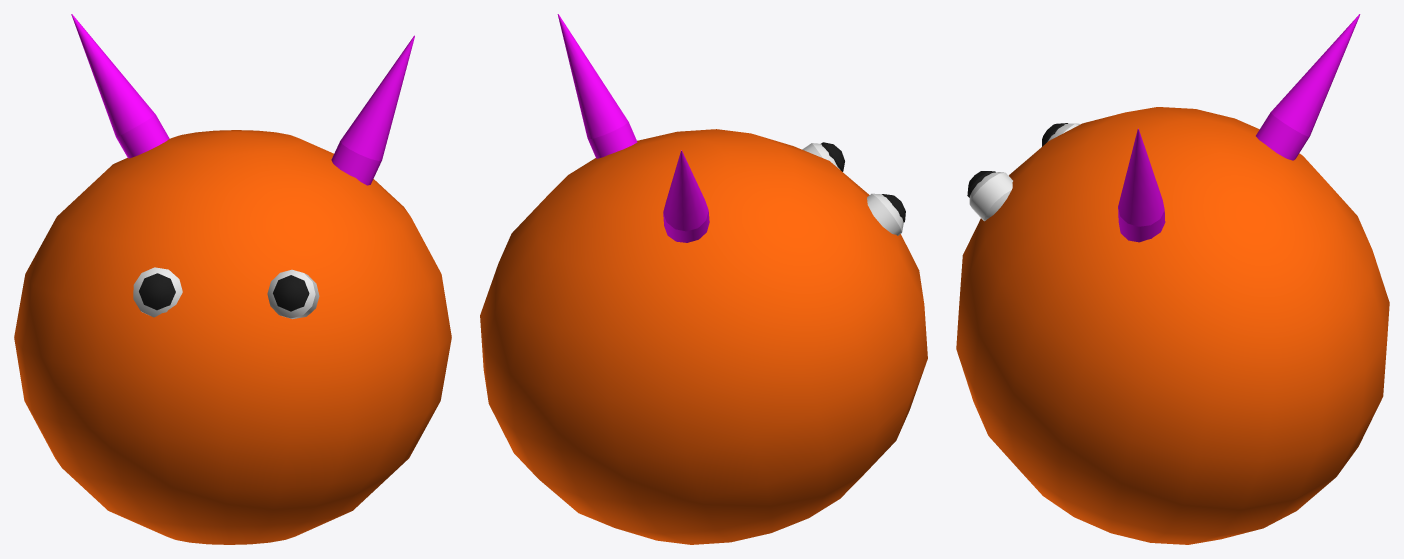
Rendered from 005-Cake_Server2.FBX.
3 views of the same model, side by side, from view 1: azimuth 30°, elevation 25°; view 2: azimuth 150°, elevation 25°; view 3: azimuth 270°, elevation 25° (orthographic). The views are drawn at different scales.
Parts seen in each view (by area): view 1: 005-Cake_Server2; view 2: 005-Cake_Server2; view 3: 005-Cake_Server2.
Boxes of the visible parts, x1,y1,x2,y2 form: 005-Cake_Server2: (14, 14, 451, 544); 005-Cake_Server2: (480, 14, 927, 544); 005-Cake_Server2: (956, 14, 1389, 544).
Size of the model in its own units: 46 by 52.63 by 43.81.
